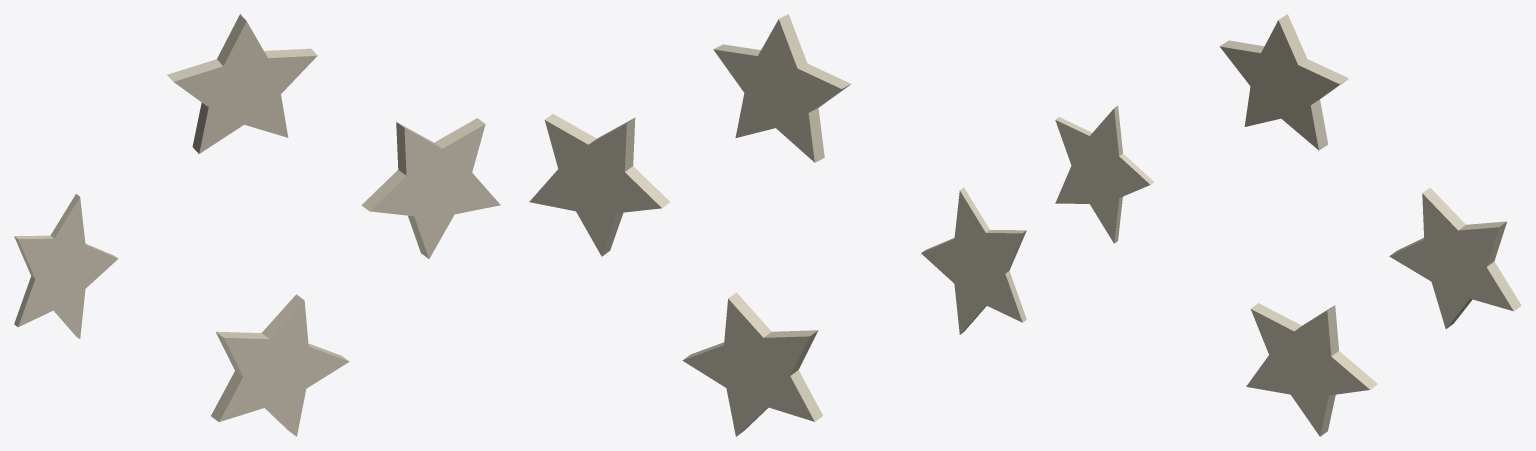
The model's file is Shiny Habbi-Albar.glb.
3 views of the same model, side by side, from view 1: azimuth 30°, elevation 25°; view 2: azimuth 150°, elevation 25°; view 3: azimuth 330°, elevation 25° (orthographic). The views are drawn at different scales.
Visible parts, largest first — view 1: Mesh_Mesh_head_geo.001_lambert2SG.001; view 2: Mesh_Mesh_head_geo.001_lambert2SG.001; view 3: Mesh_Mesh_head_geo.001_lambert2SG.001.
Part boxes in pixels (bbox=[...]): Mesh_Mesh_head_geo.001_lambert2SG.001: bbox=[14, 14, 500, 436]; Mesh_Mesh_head_geo.001_lambert2SG.001: bbox=[529, 14, 1026, 436]; Mesh_Mesh_head_geo.001_lambert2SG.001: bbox=[1055, 14, 1521, 436].
Size of the model in its own units: 0.0673 by 0.0567 by 0.00421.
